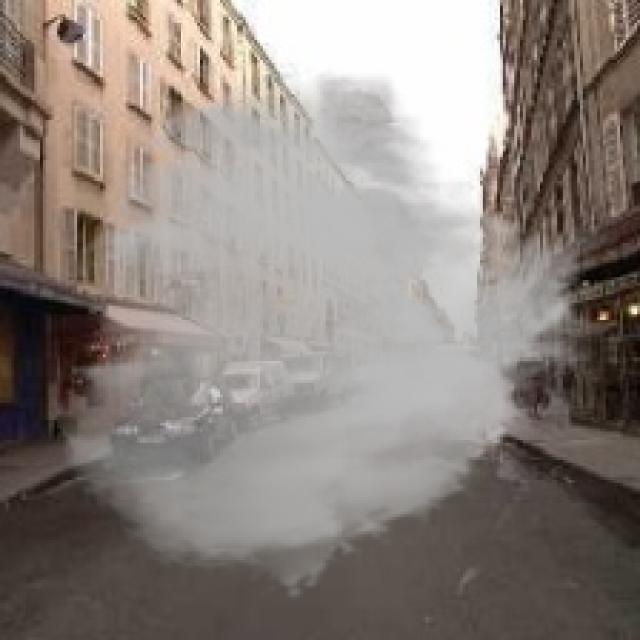smoke: (51, 66, 612, 600)
